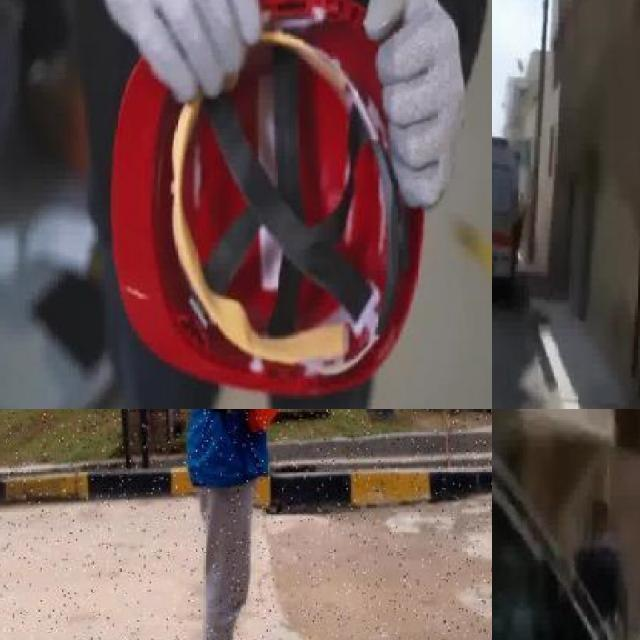apron: (362, 0, 466, 216), (98, 0, 269, 105)
